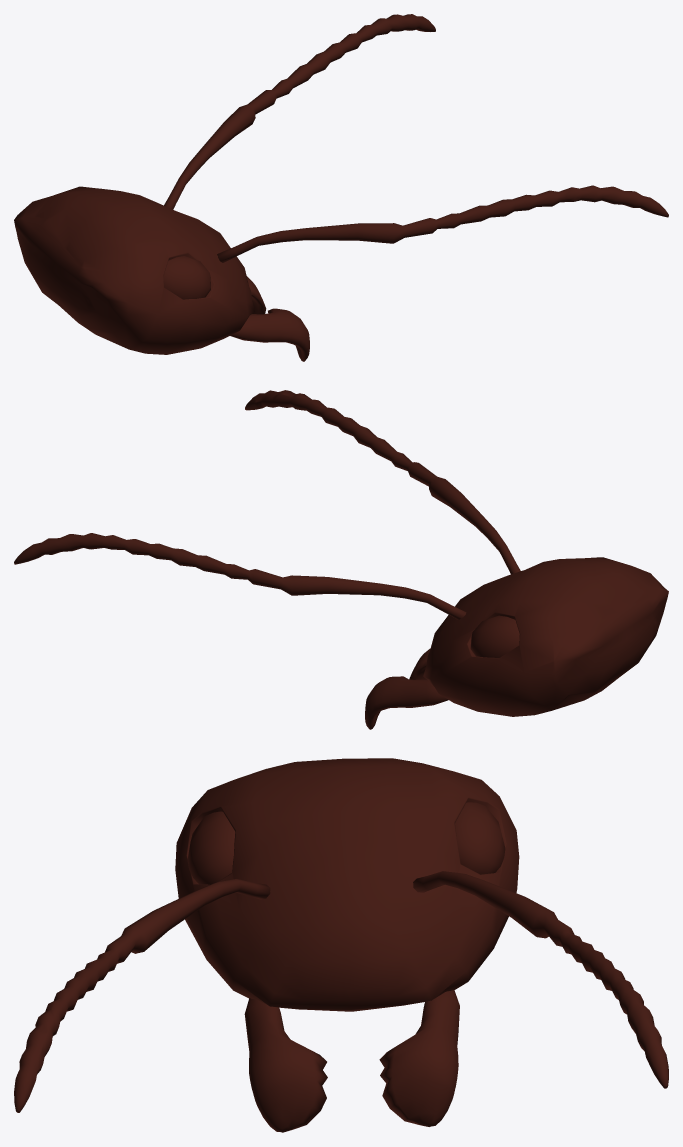
The model's file is head.dae.
3 renders of one model, top to bottom at view 1: azimuth 30°, elevation 25°; view 2: azimuth 150°, elevation 25°; view 3: azimuth 270°, elevation 25°, orthographic. The views are drawn at different scales.
Parts seen in each view (by area): view 1: Mesh_0.008; view 2: Mesh_0.008; view 3: Mesh_0.008.
Boxes of the visible parts, bbox=[...] form: Mesh_0.008: bbox=[14, 14, 668, 361]; Mesh_0.008: bbox=[14, 390, 668, 729]; Mesh_0.008: bbox=[14, 758, 668, 1132].
Bounding box in the file's own units: 1.16 × 0.9399 × 0.4444.
